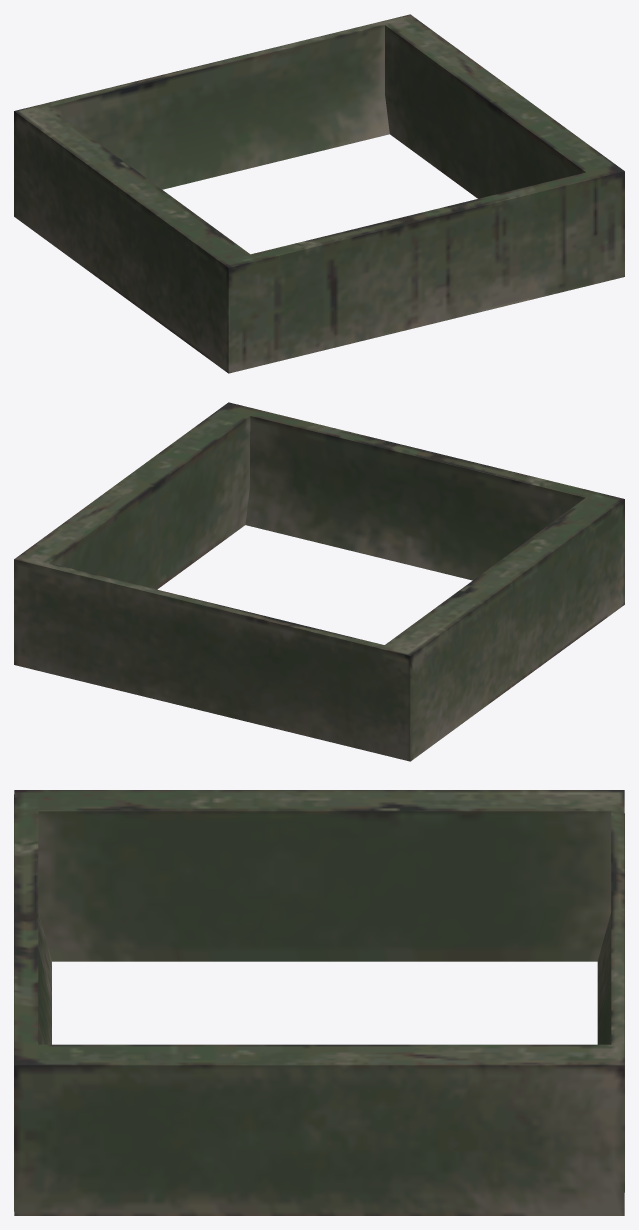
The model's file is Turret_01.glb.
3 renders of one model, top to bottom at view 1: azimuth 30°, elevation 25°; view 2: azimuth 150°, elevation 25°; view 3: azimuth 270°, elevation 25°, orthographic. The views are drawn at different scales.
Parts seen in each view (by area): view 1: set_0_group_0; view 2: set_0_group_0; view 3: set_0_group_0.
Part boxes in pixels (left/top/right/bottom): set_0_group_0: left=14, top=14, right=624, bottom=373; set_0_group_0: left=14, top=402, right=624, bottom=761; set_0_group_0: left=14, top=790, right=624, bottom=1215.
Bounding box in the file's own units: 0.95 × 0.242 × 0.891.
1 material, 1 textured.
